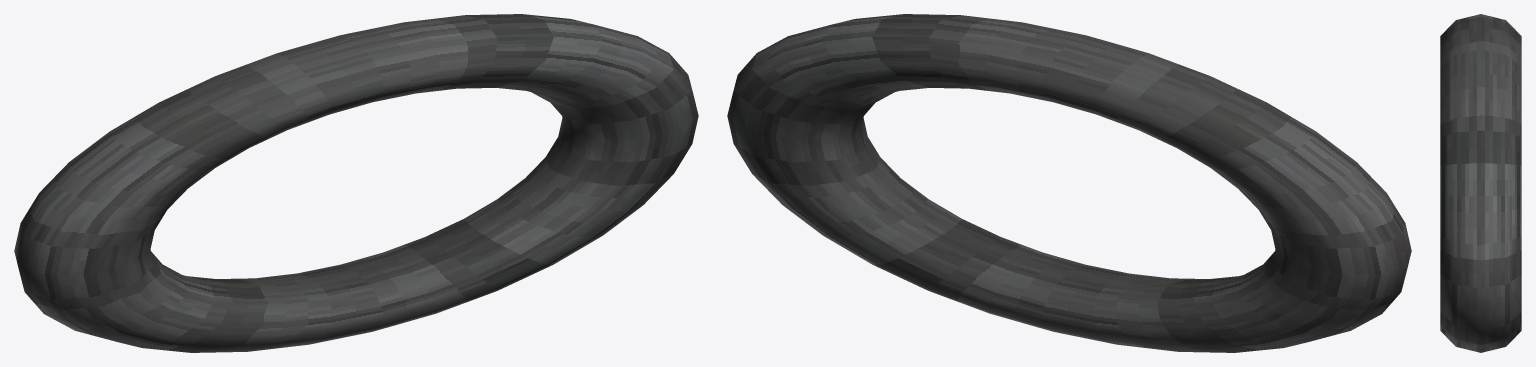
Rendered from belt.glb.
3 renders of one model, left to right at view 1: azimuth 30°, elevation 25°; view 2: azimuth 150°, elevation 25°; view 3: azimuth 270°, elevation 25°, orthographic. The views are drawn at different scales.
Visible parts, largest first — view 1: loop; view 2: loop; view 3: loop.
Boxes of the visible parts, x1,y1,x2,y2 form: loop: (14, 14, 698, 352); loop: (727, 14, 1411, 352); loop: (1440, 14, 1521, 352).
Bounding box in the file's own units: 0.3 × 0.12 × 0.04.
Materials: 1 (1 with a texture image).
